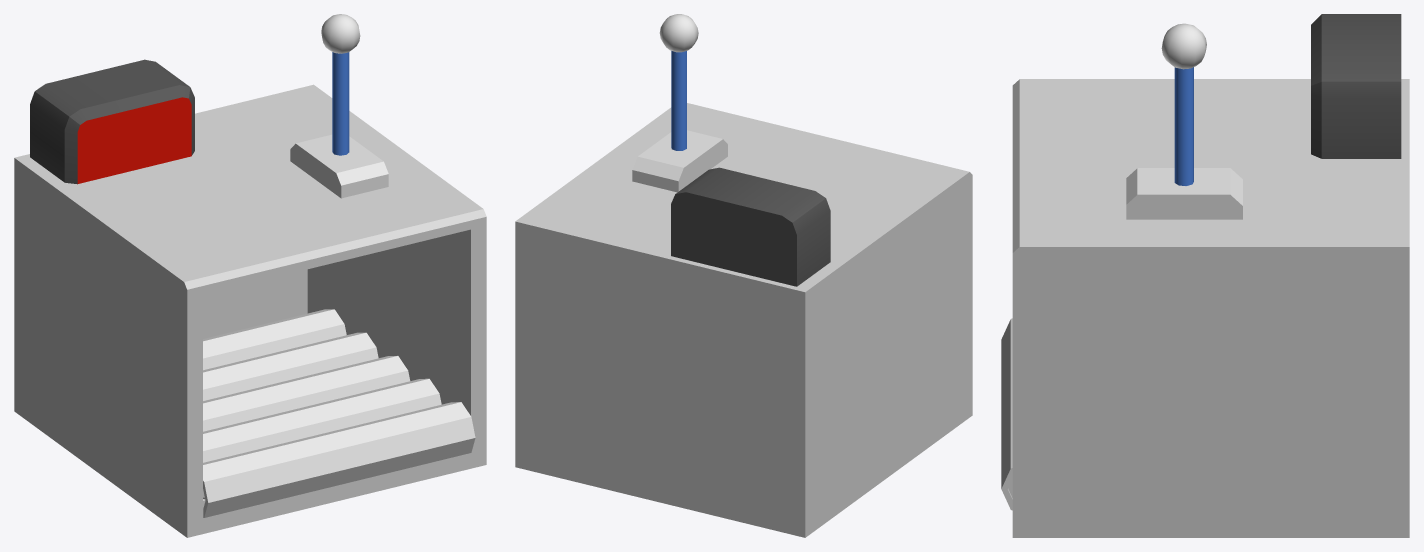
3 views of the same model, side by side, from view 1: azimuth 30°, elevation 25°; view 2: azimuth 150°, elevation 25°; view 3: azimuth 270°, elevation 25° (orthographic). The views are drawn at different scales.
Parts seen in each view (by area): view 1: Out/In_1, smth_1, wheels_1_, wheels_1_.001, wheels_1_.002, wheels_1_.003, wheels_1_.004, Cube, Circle; view 2: Out/In_1, smth_1, Cube, Circle; view 3: Out/In_1, smth_1, Cube, Circle, wheels_1_.
Boxes of the visible parts, x1,y1,x2,y2 form: Out/In_1: (14,84,486,537); smth_1: (30,59,194,184); wheels_1_: (203,402,475,517); wheels_1_.001: (203,378,441,462); wheels_1_.002: (203,355,410,431); wheels_1_.003: (203,332,378,400); wheels_1_.004: (203,309,346,370); Cube: (290,134,388,198); Circle: (321,14,360,155); Out/In_1: (515,103,972,537); smth_1: (671,167,830,286); Cube: (632,130,727,192); Circle: (659,14,698,150); Out/In_1: (1012,79,1409,537); smth_1: (1311,14,1401,158); Cube: (1126,168,1242,219); Circle: (1161,23,1206,185); wheels_1_: (1001,318,1012,510).
Size of the model in its own units: 95 by 125 by 97.72.
